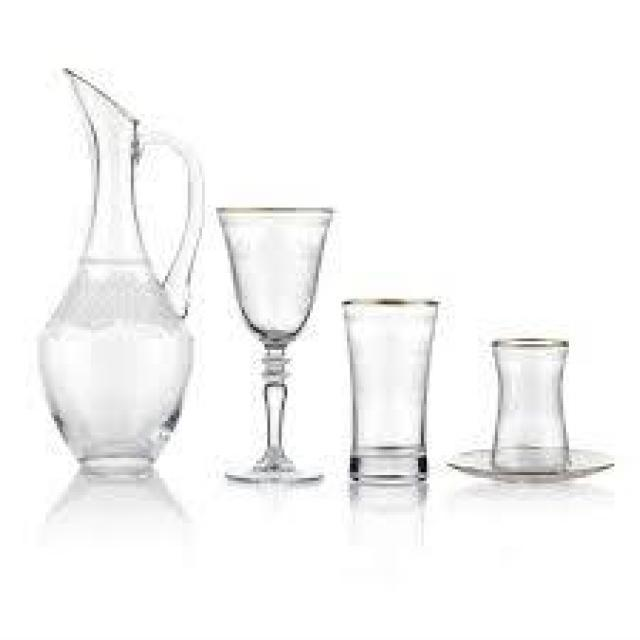glass: (31, 57, 208, 478), (210, 202, 338, 484), (446, 332, 614, 483), (334, 293, 442, 484)
